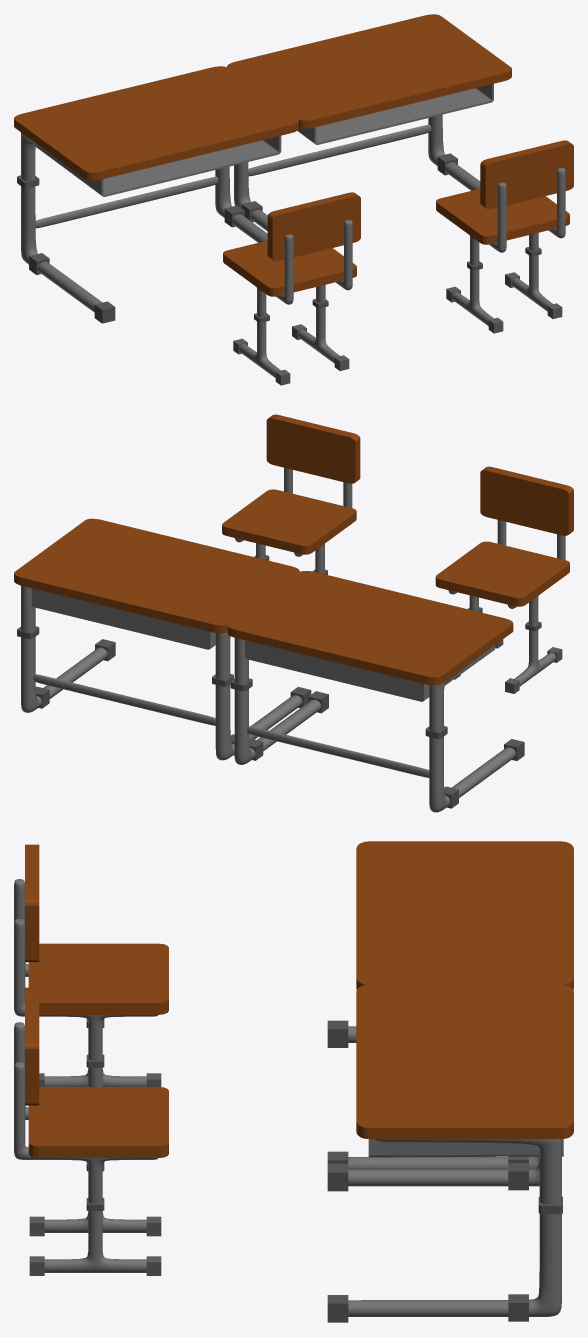
Rendered from Table+chairX2.fbx.
The picture shows the model from 3 angles, top to bottom: view 1: azimuth 30°, elevation 25°; view 2: azimuth 150°, elevation 25°; view 3: azimuth 270°, elevation 25°; orthographic projection. The views are drawn at different scales.
Visible parts, largest first — view 1: Cube.008; view 2: Cube.008; view 3: Cube.008.
Part boxes in pixels (x1,y1,x2,y2): Cube.008: (14, 14, 573, 385); Cube.008: (14, 414, 573, 812); Cube.008: (14, 841, 573, 1322).
Bounding box in the file's own units: 0.7963 × 0.3087 × 0.6578.
